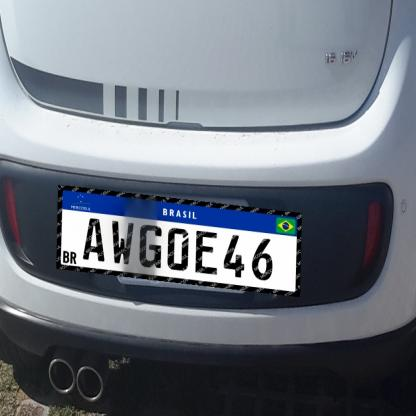PlacaM: (56, 185, 302, 297)
